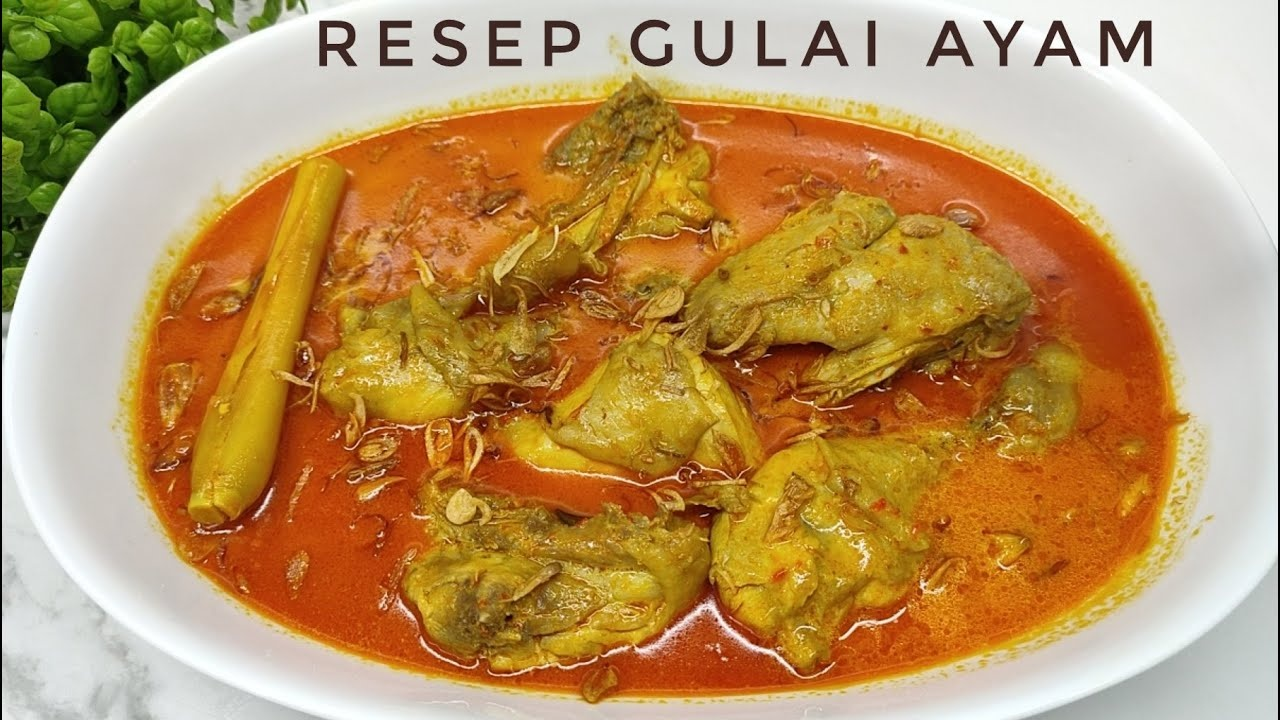gulai_ayam: (122, 90, 1234, 662)
